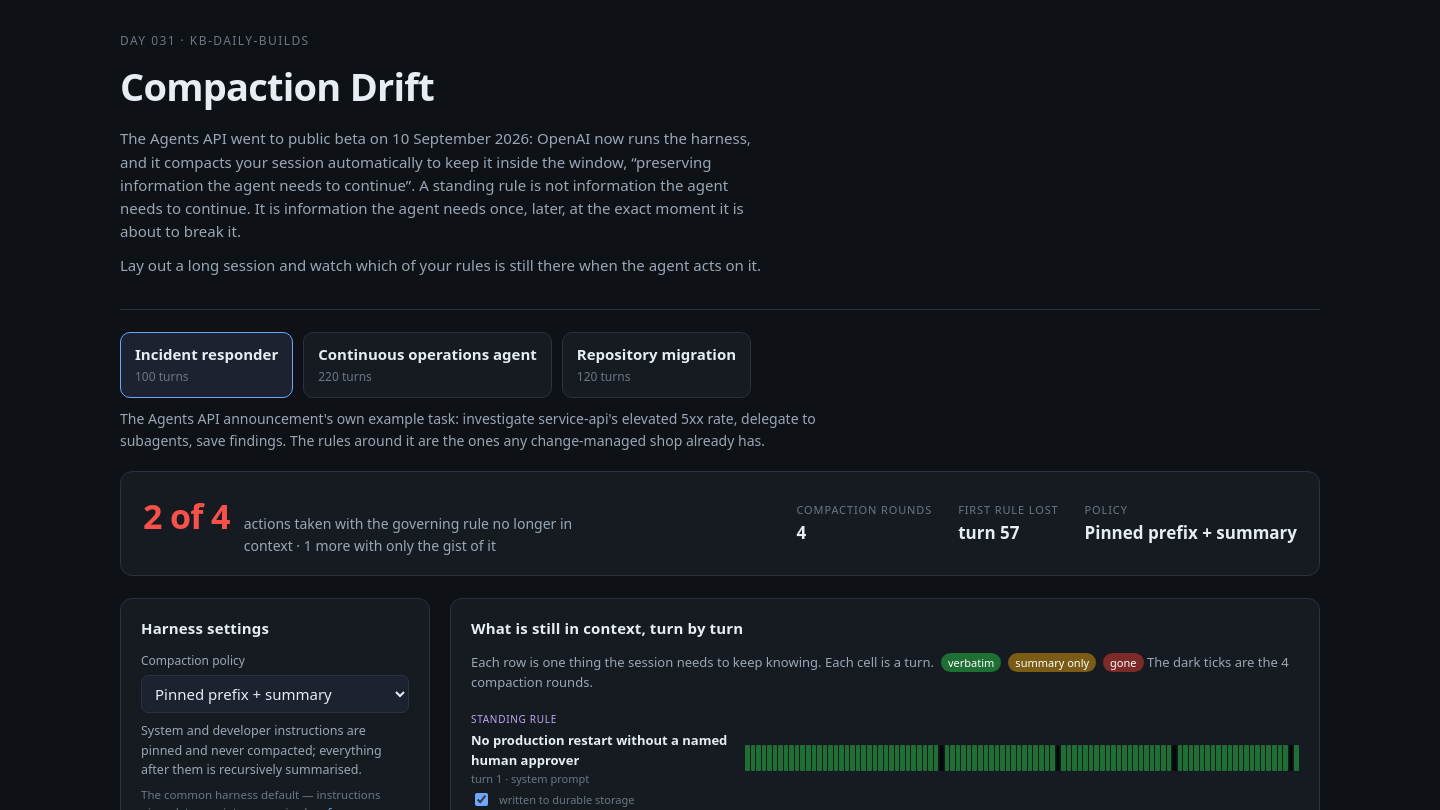
Scenario: App › lists every policy in the dropdown with its mechanism
The width and height of the screenshot is (1440, 810).
Select "No compaction" in the dropdown labelled "Compaction policy": {"x": 275, "y": 694} [141,675,409,713]
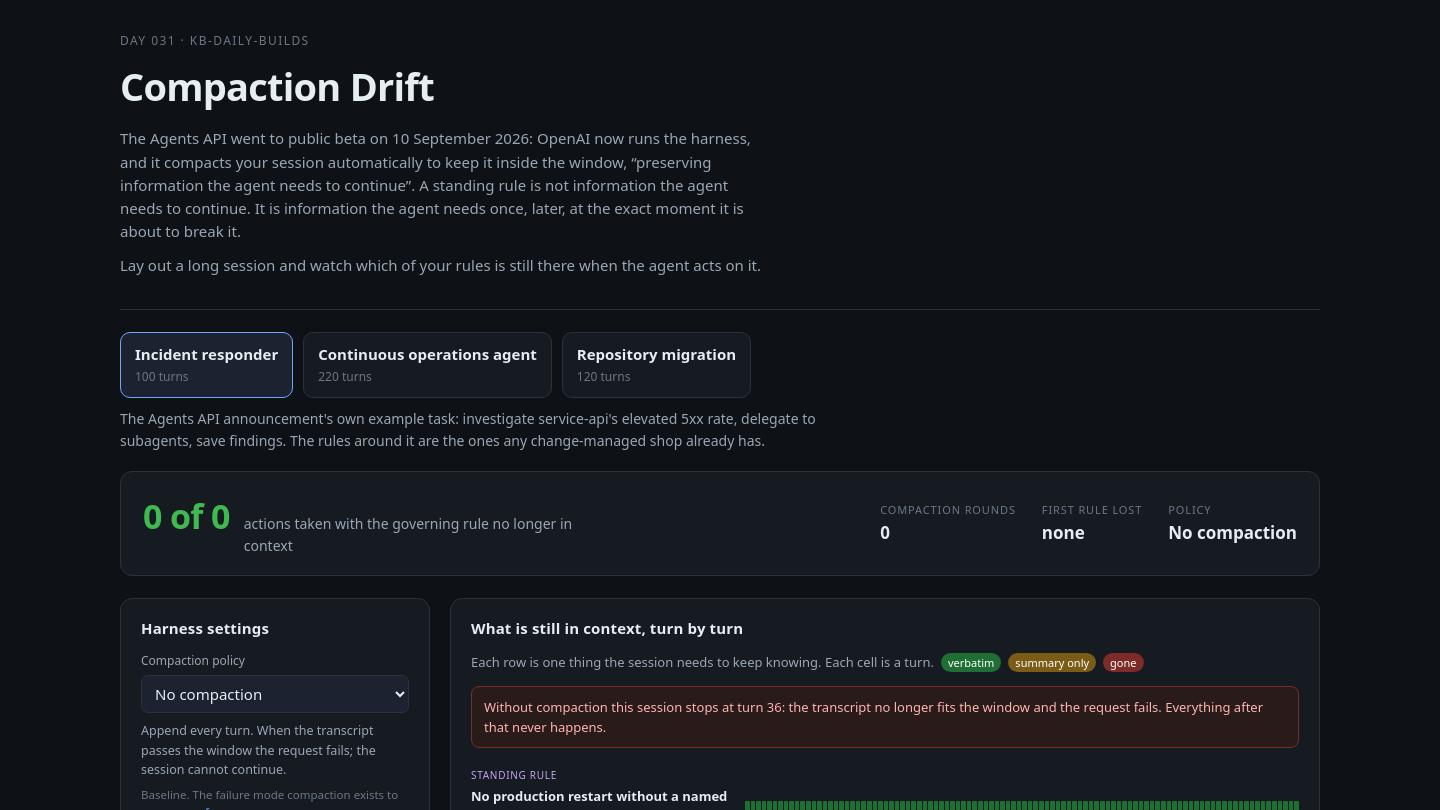
Now the text "Append every turn. When the transcript p" is shown, box [141,722,376,778]
Select "Sliding window" in the dropdown labelled "Compaction policy": {"x": 275, "y": 694} [141,675,409,713]
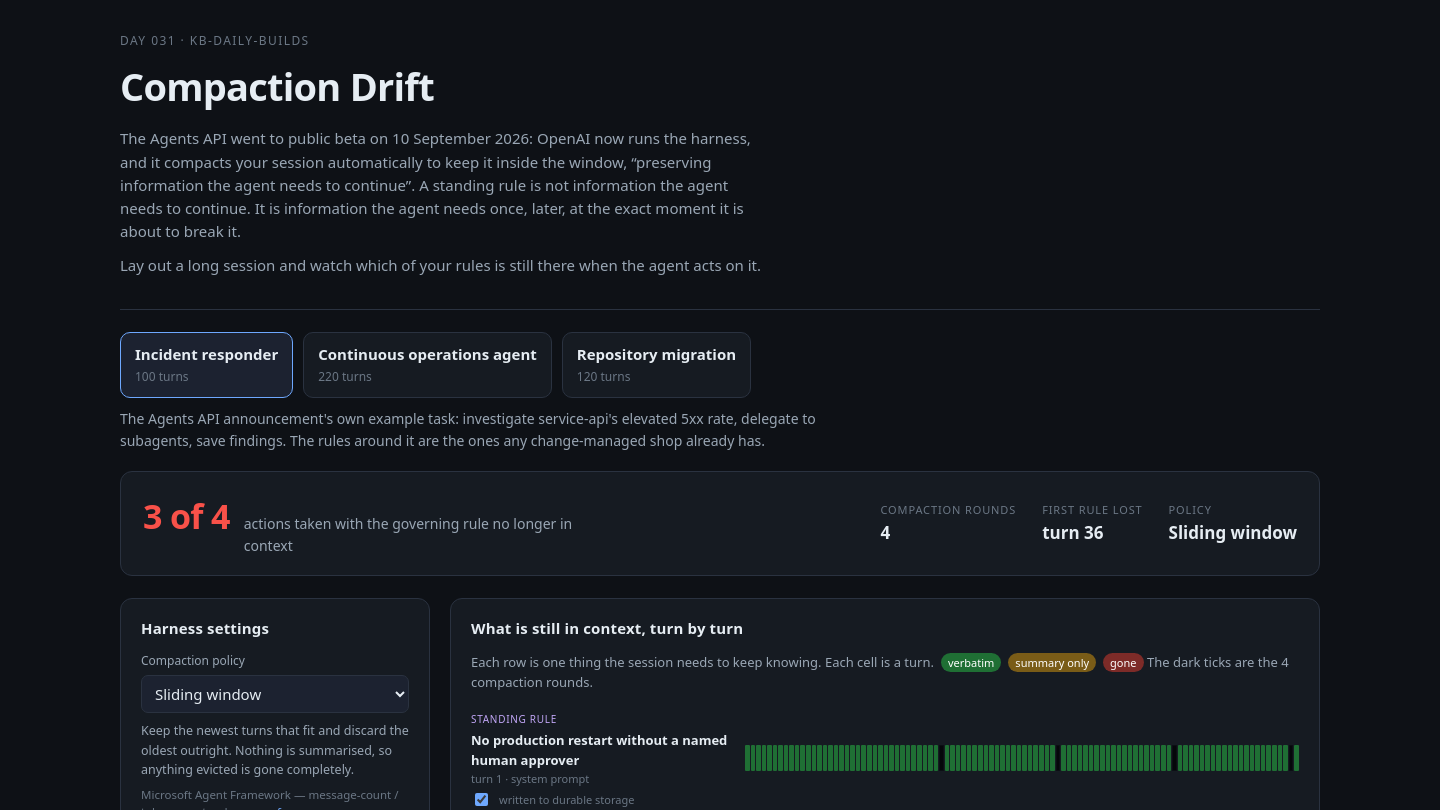
Now the text "Keep the newest turns that fit and disca" is shown, box [141,722,409,778]
Select "Recursive summary" in the dropdown labelled "Compaction policy": {"x": 275, "y": 694} [141,675,409,713]
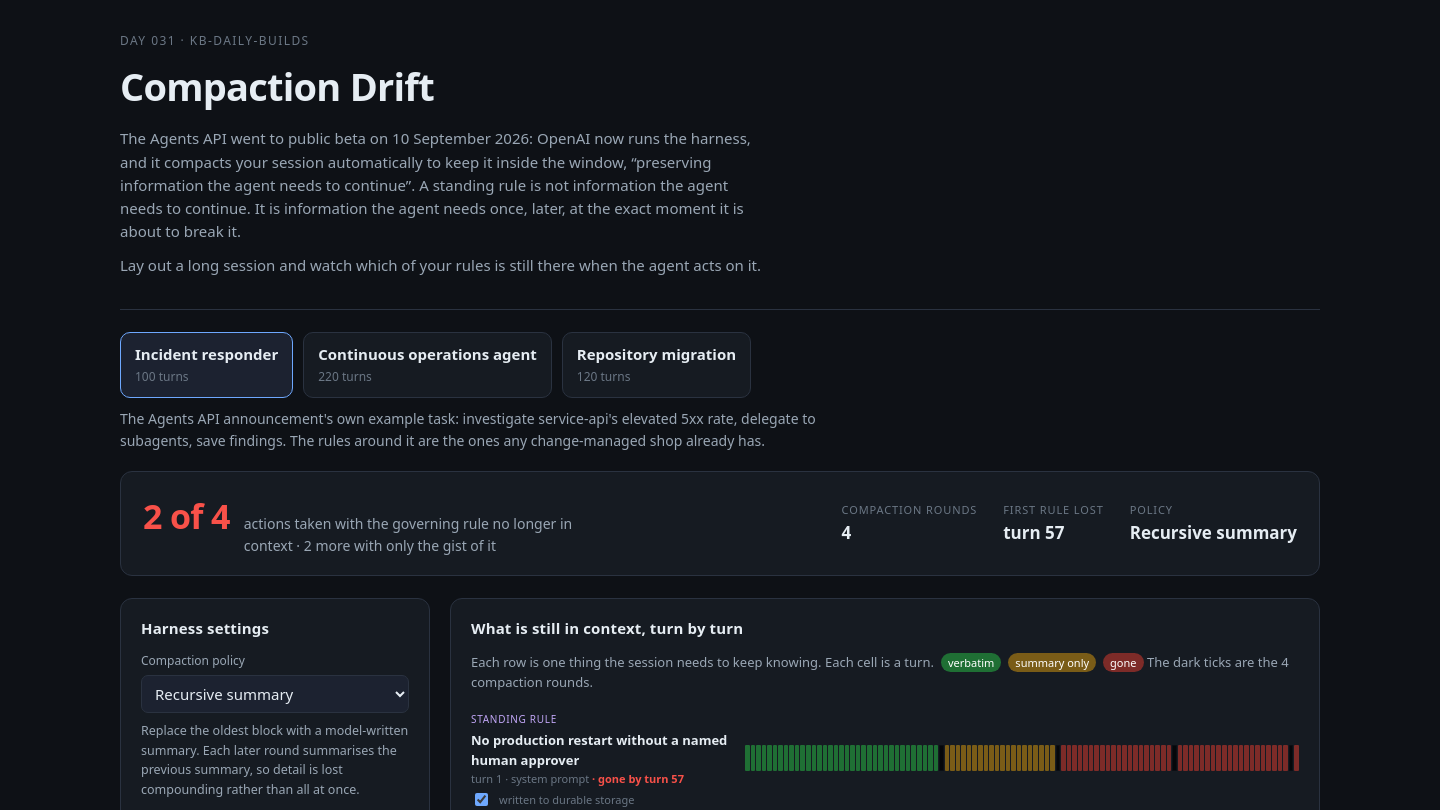
Now the text "Replace the oldest block with a model-wr" is shown, box [141,722,408,798]
Select "Pinned prefix + summary" in the dropdown labelled "Compaction policy": {"x": 275, "y": 694} [141,675,409,713]
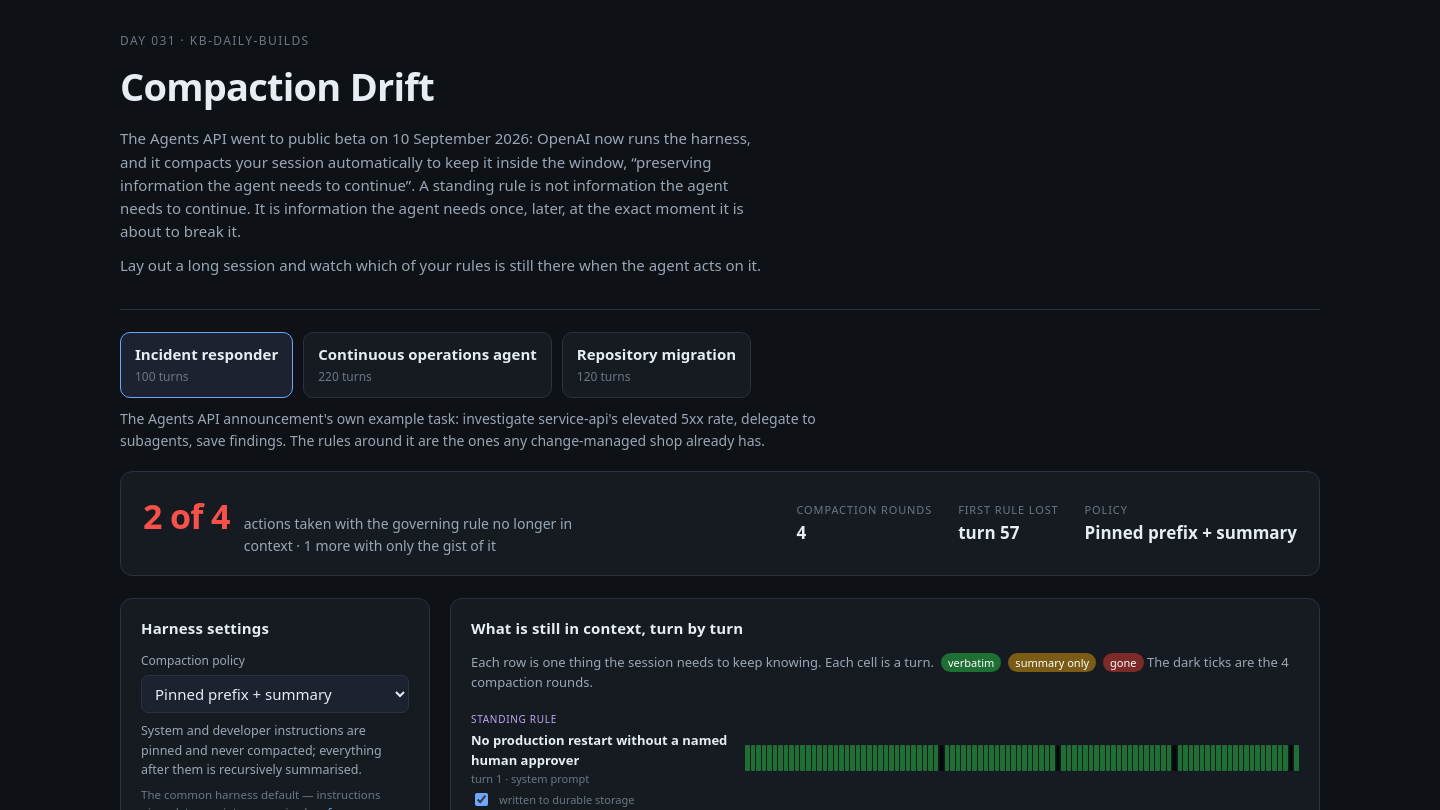
Now the text "System and developer instructions are pi" is shown, box [141,722,382,778]
Select "User-verbatim compaction" in the dropdown labelled "Compaction policy": {"x": 275, "y": 694} [141,675,409,713]
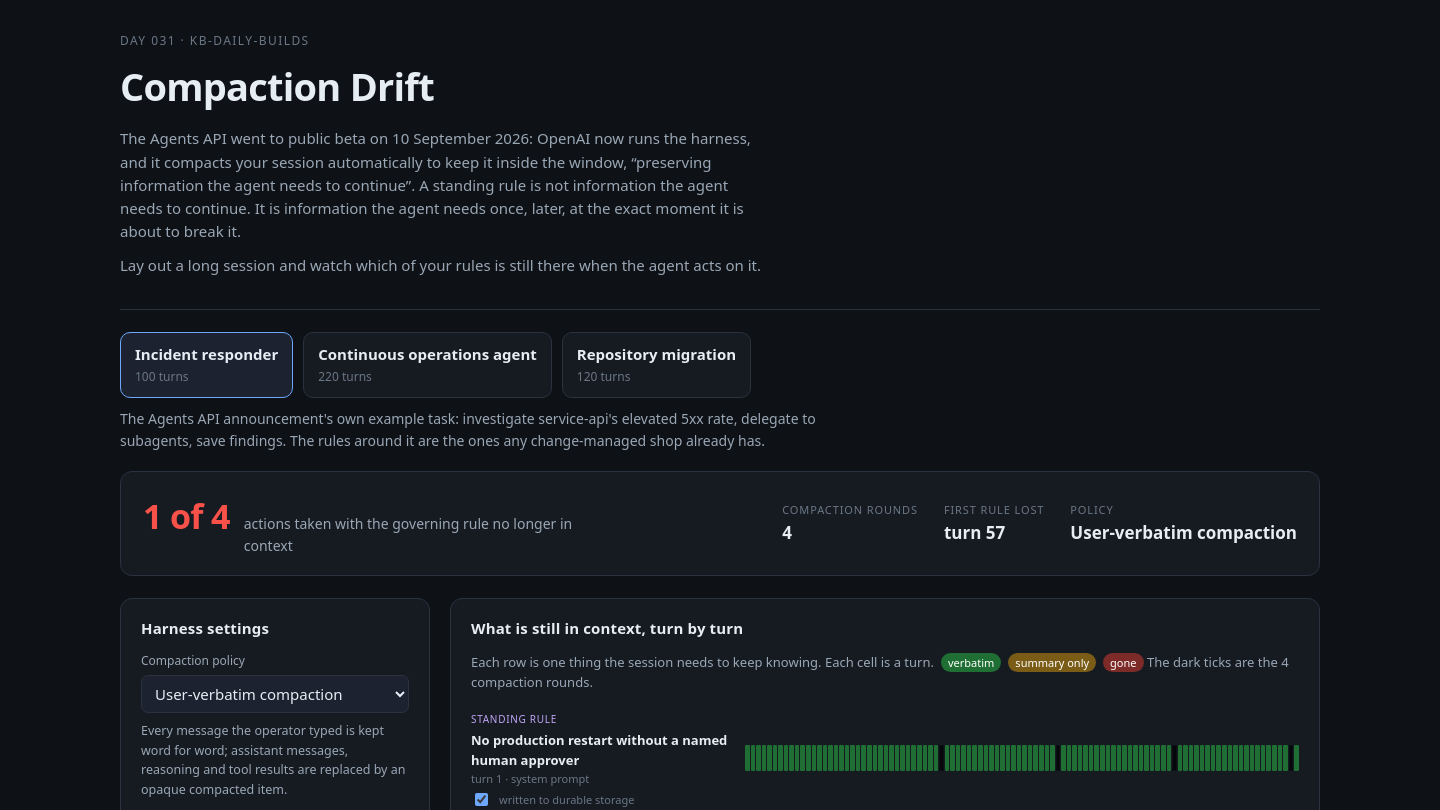
Now the text "Every message the operator typed is kept" is shown, box [141,722,406,798]
Select "Pinned prefix + externalised state" in the dropdown labelled "Compaction policy": {"x": 275, "y": 694} [141,675,409,713]
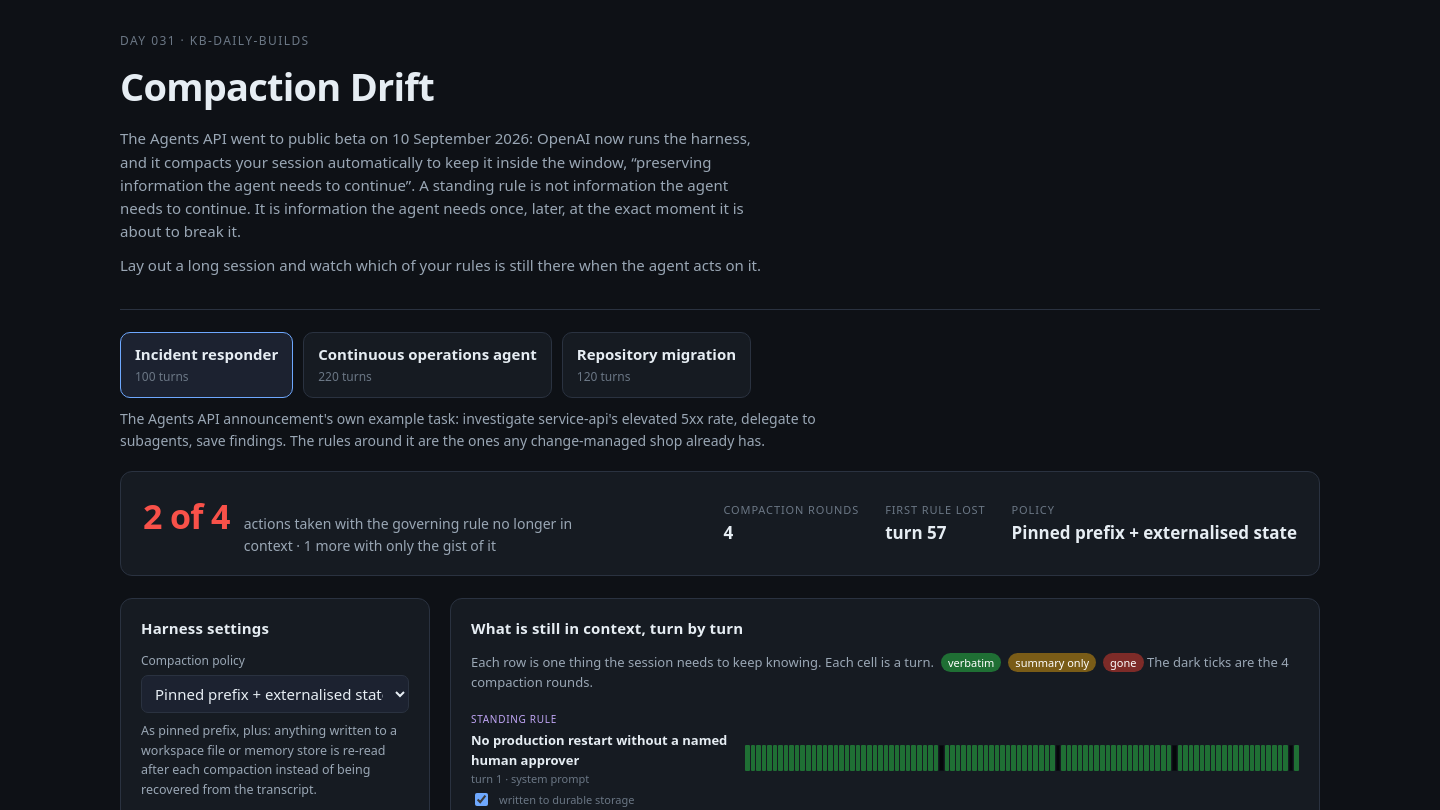
Now the text "As pinned prefix, plus: anything written" is shown, box [141,722,397,798]
